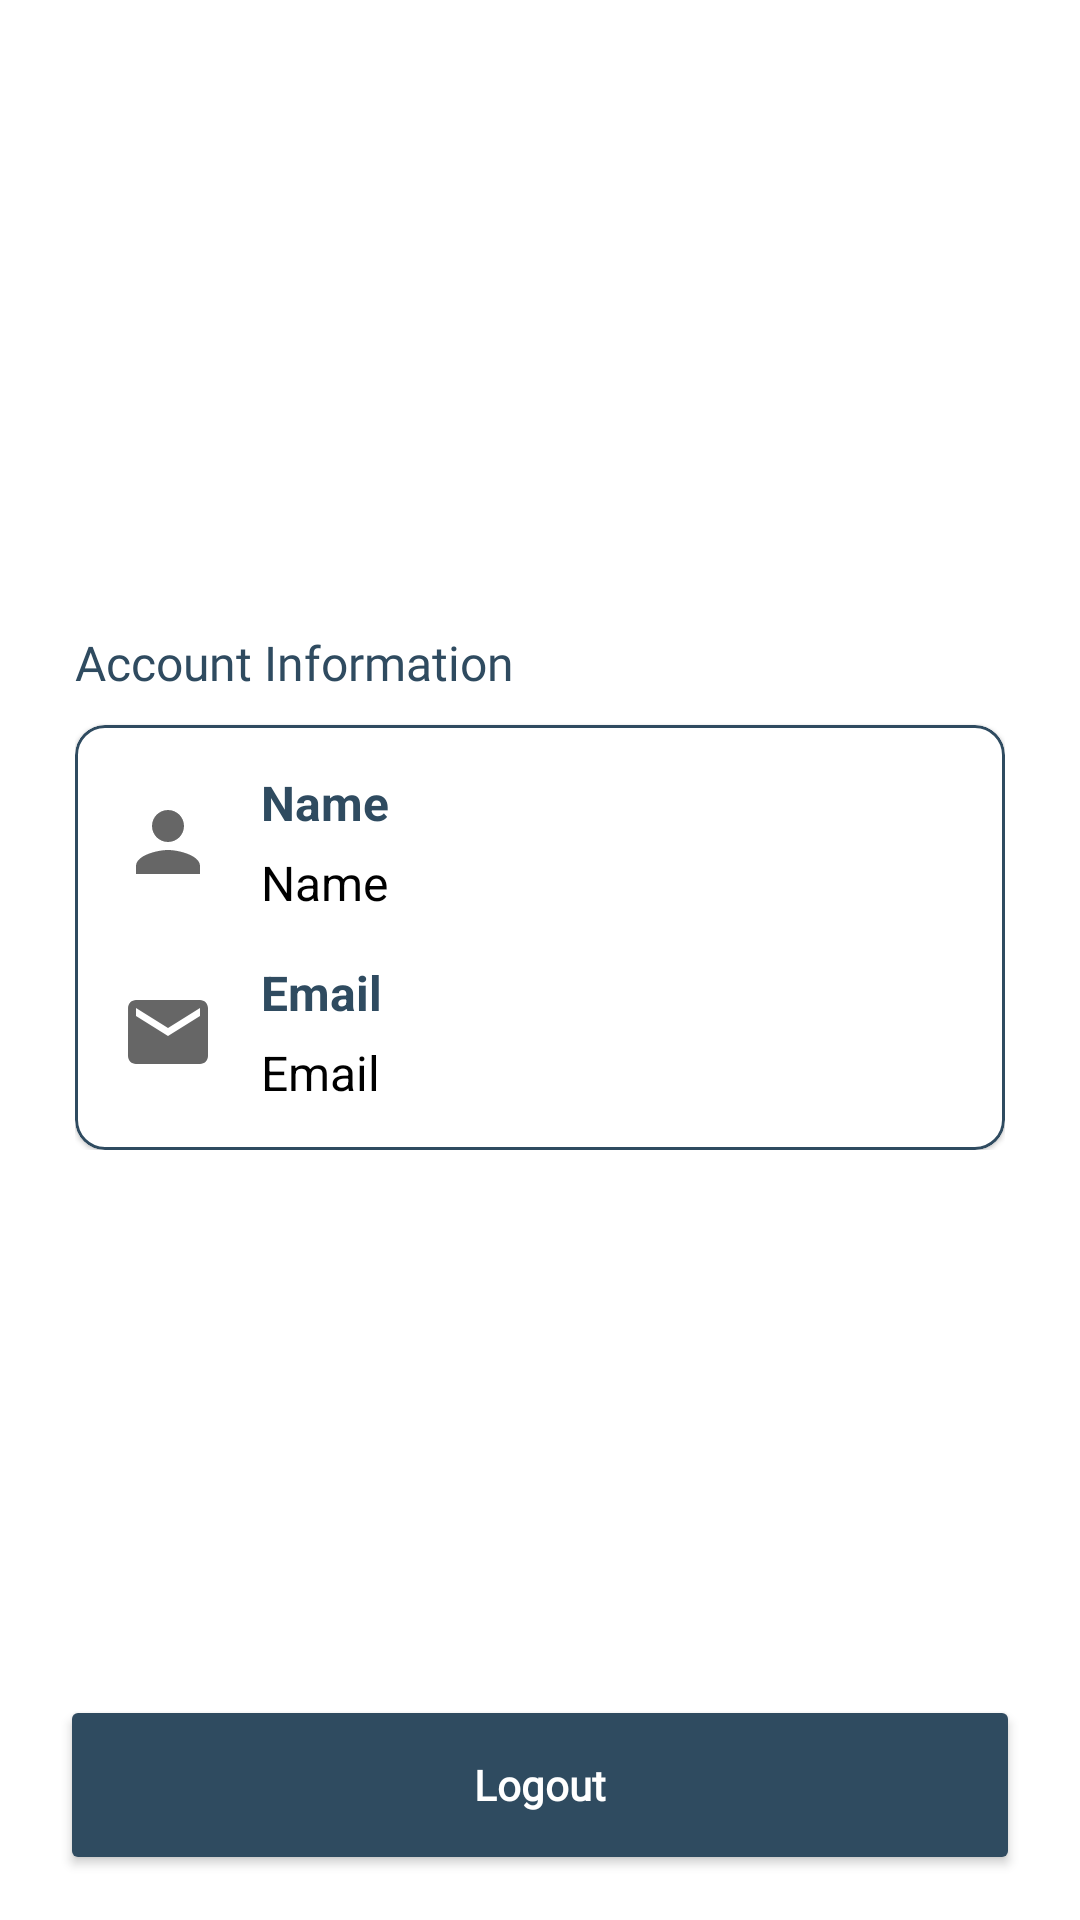

Screen size 1080 x 1920. Icon name, then its center in pixels as (x=x, y=y):
person: (x=168, y=842)
